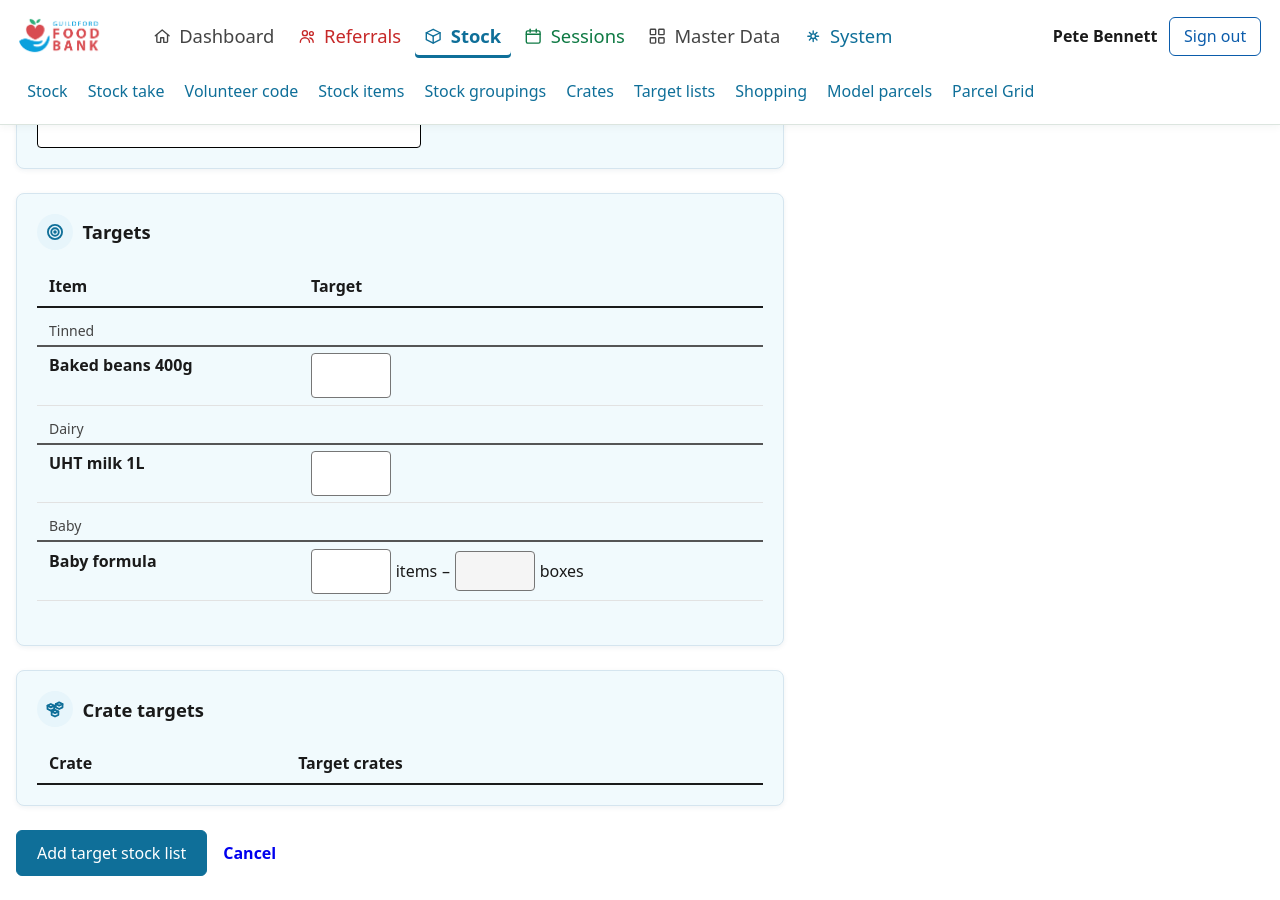
Test case: adding a target stock list › switches a packed item between its individual and nearest whole-pack targets
The image size is (1280, 900).
(page scrolled)
Type "47" into the field named "Target items for Baby formula" at (351, 572), box [311,549,391,594]
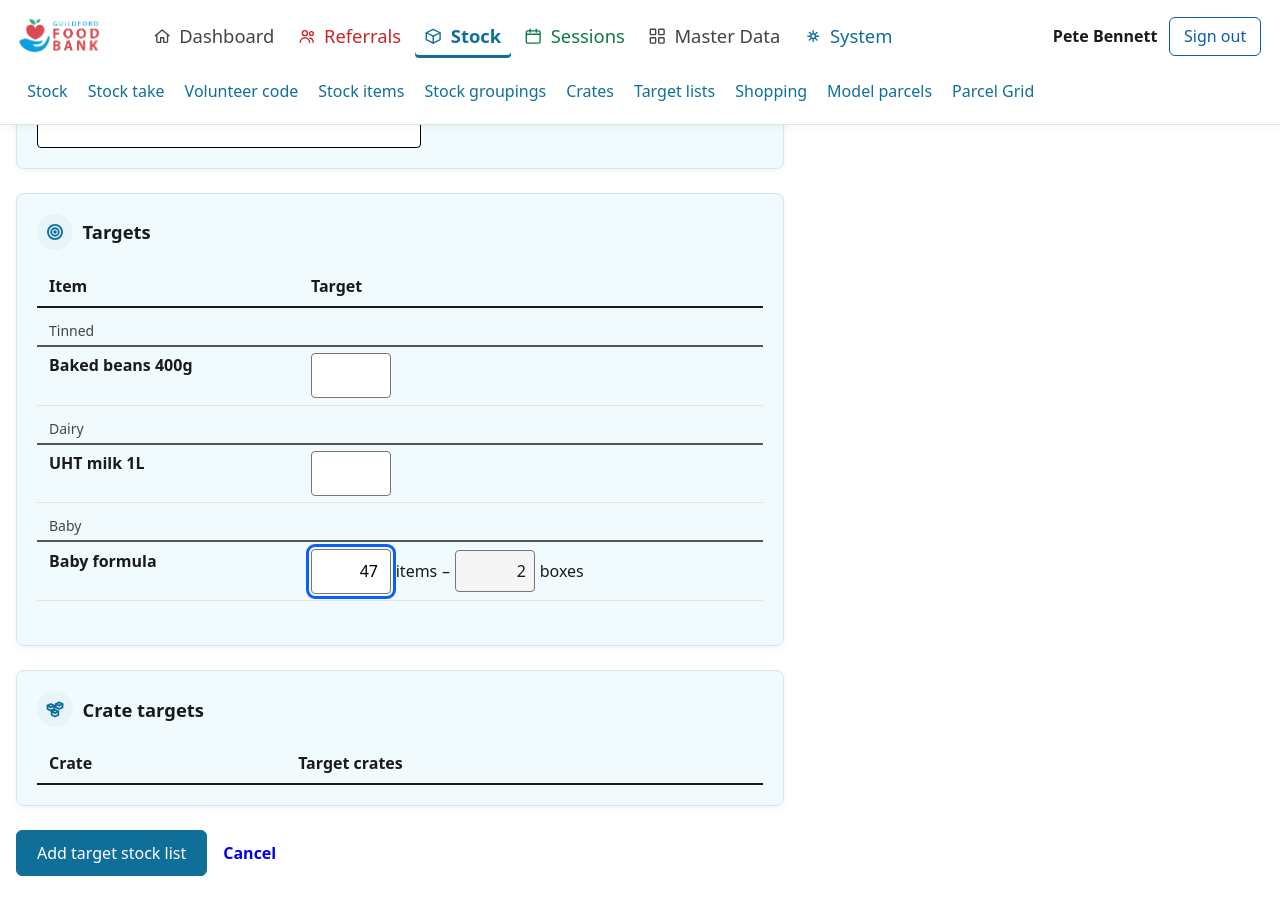
Result: the button named "Change Baby formula to boxes target entry" reads "2"
Click the button named "Change Baby formula to boxes target entry" at (495, 572), box [455,550,535,592]
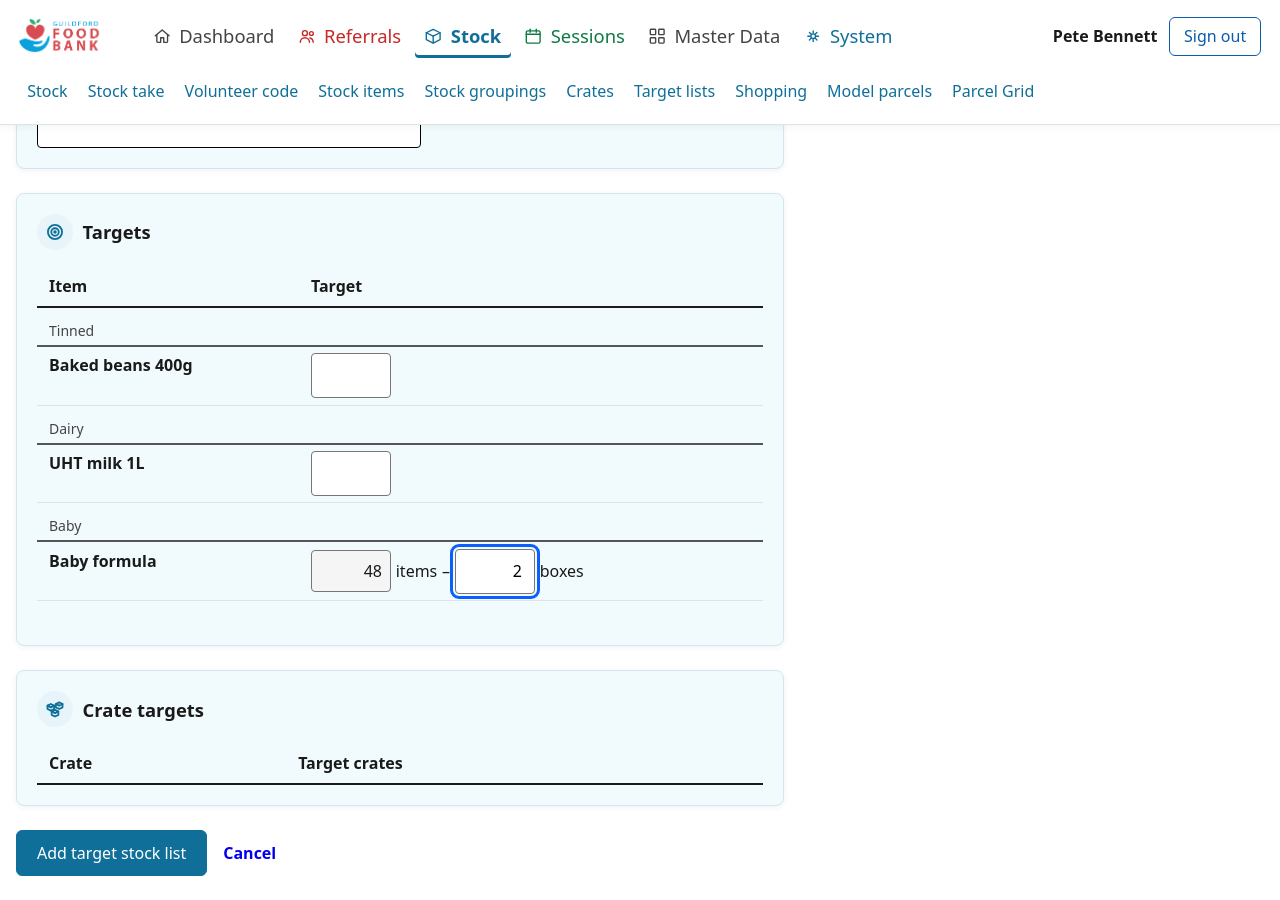
Result: the field named "Target boxes for Baby formula" holds "2" at [455,549,535,594]
Result: the button named "Change Baby formula to item target entry" reads "48" at [311,550,391,592]
